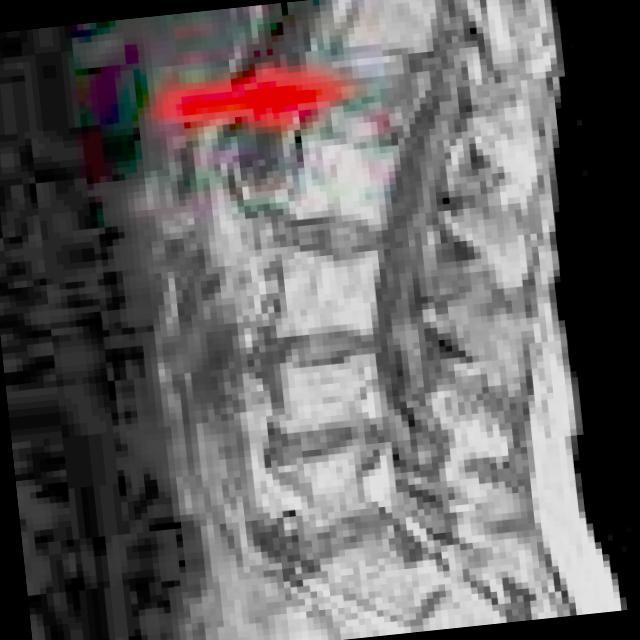Compression-Crush Fracutre: (294, 68, 422, 138)
